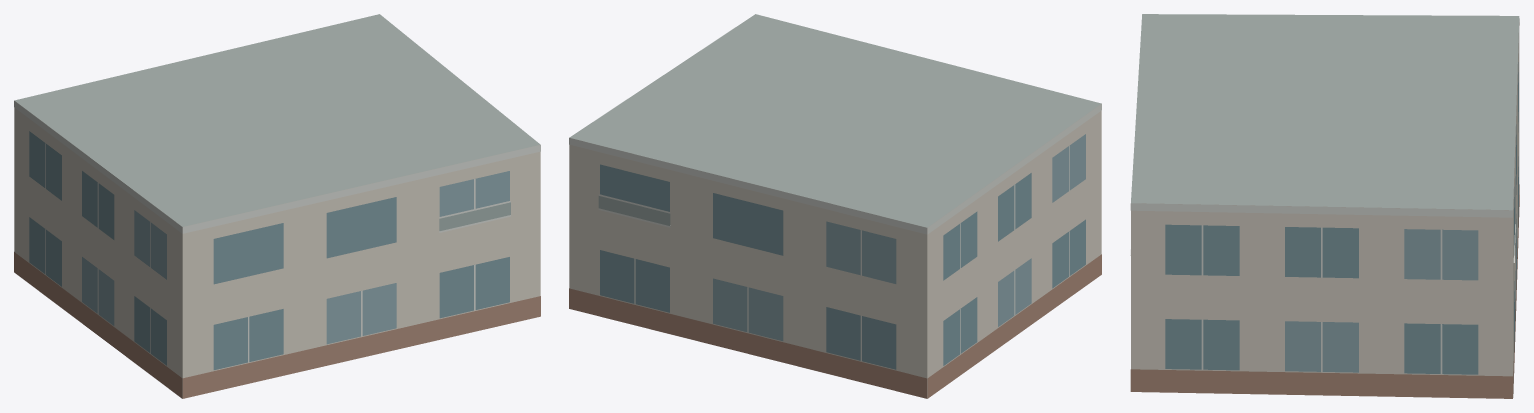
File: survey-upis-32876537.glb
The picture shows the model from 3 angles, left to right: view 1: azimuth 30°, elevation 25°; view 2: azimuth 150°, elevation 25°; view 3: azimuth 270°, elevation 25°; orthographic projection. The views are drawn at different scales.
Visible parts, largest first — view 1: survey-upis-32876537.tmp; view 2: survey-upis-32876537.tmp; view 3: survey-upis-32876537.tmp.
Boxes of the visible parts, x1,y1,x2,y2 form: survey-upis-32876537.tmp: (14, 14, 540, 398); survey-upis-32876537.tmp: (569, 14, 1101, 398); survey-upis-32876537.tmp: (1130, 14, 1519, 398).
Size of the model in its own units: 13.61 by 6.1 by 11.4.
